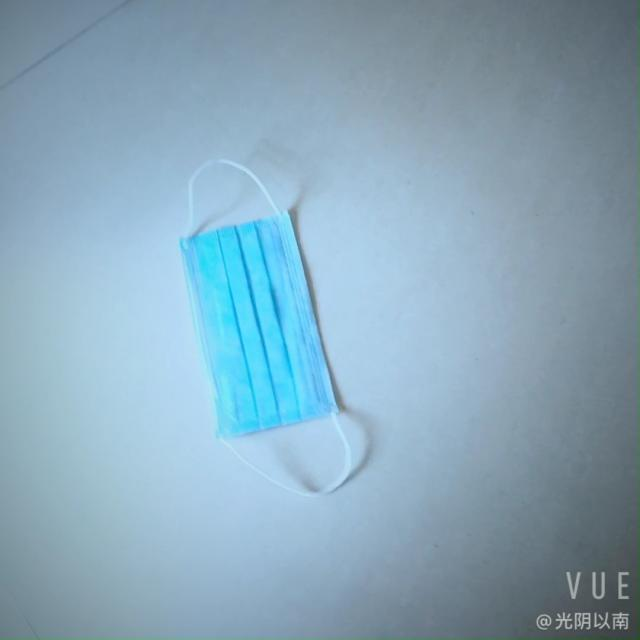face mask: (204, 190, 358, 447)
